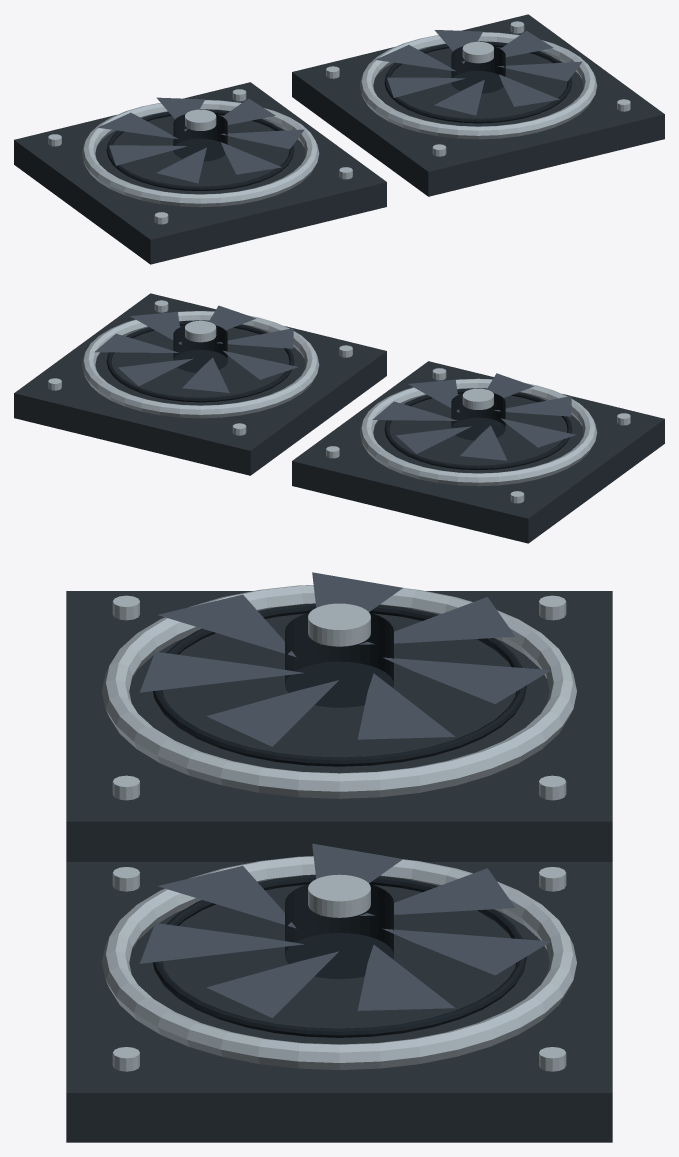
The model's file is fan-140-black.glb.
The picture shows the model from 3 angles, top to bottom: view 1: azimuth 30°, elevation 25°; view 2: azimuth 150°, elevation 25°; view 3: azimuth 270°, elevation 25°; orthographic projection. The views are drawn at different scales.
Parts seen in each view (by area): view 1: fan-140-black; view 2: fan-140-black; view 3: fan-140-black.
Boxes of the visible parts, left/top/right/bottom form: fan-140-black: left=14, top=14, right=664, bottom=264; fan-140-black: left=14, top=293, right=664, bottom=543; fan-140-black: left=66, top=572, right=612, bottom=1142.
Bounding box in the file's own units: 1.62 × 0.21 × 0.7467.
